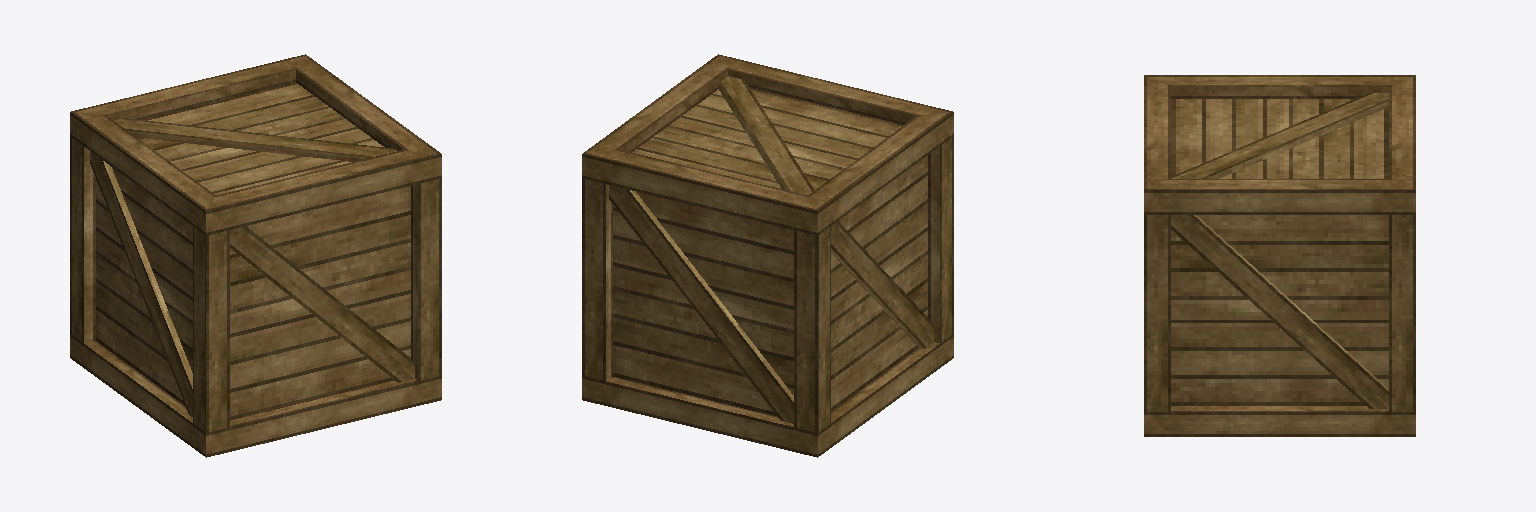
3 views of the same model, side by side, from view 1: azimuth 30°, elevation 25°; view 2: azimuth 150°, elevation 25°; view 3: azimuth 270°, elevation 25° (orthographic).
Visible parts, largest first — view 1: Crate_Cube; view 2: Crate_Cube; view 3: Crate_Cube.
Boxes of the visible parts, box(x1,y1,x2,y2) form: Crate_Cube: box(70, 54, 441, 457); Crate_Cube: box(582, 54, 953, 457); Crate_Cube: box(1144, 75, 1415, 436).
Size of the model in its own units: 1 by 1 by 1.
Materials: 1 (1 with a texture image).